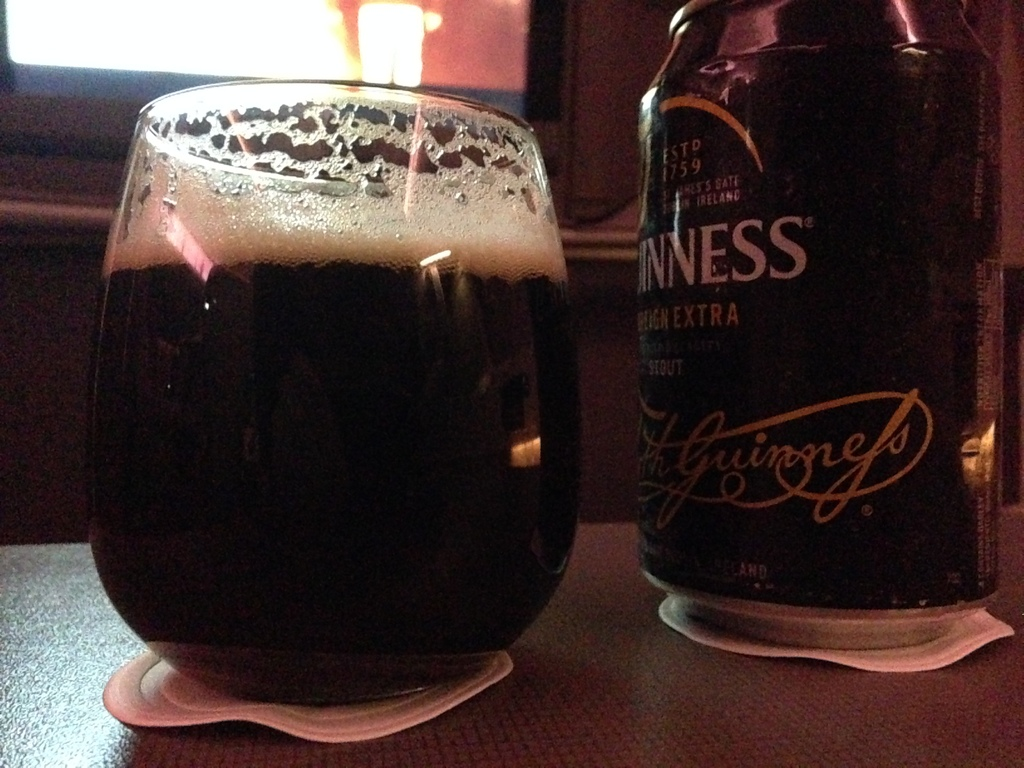Beer: (82, 82, 636, 701), (640, 0, 999, 664)
